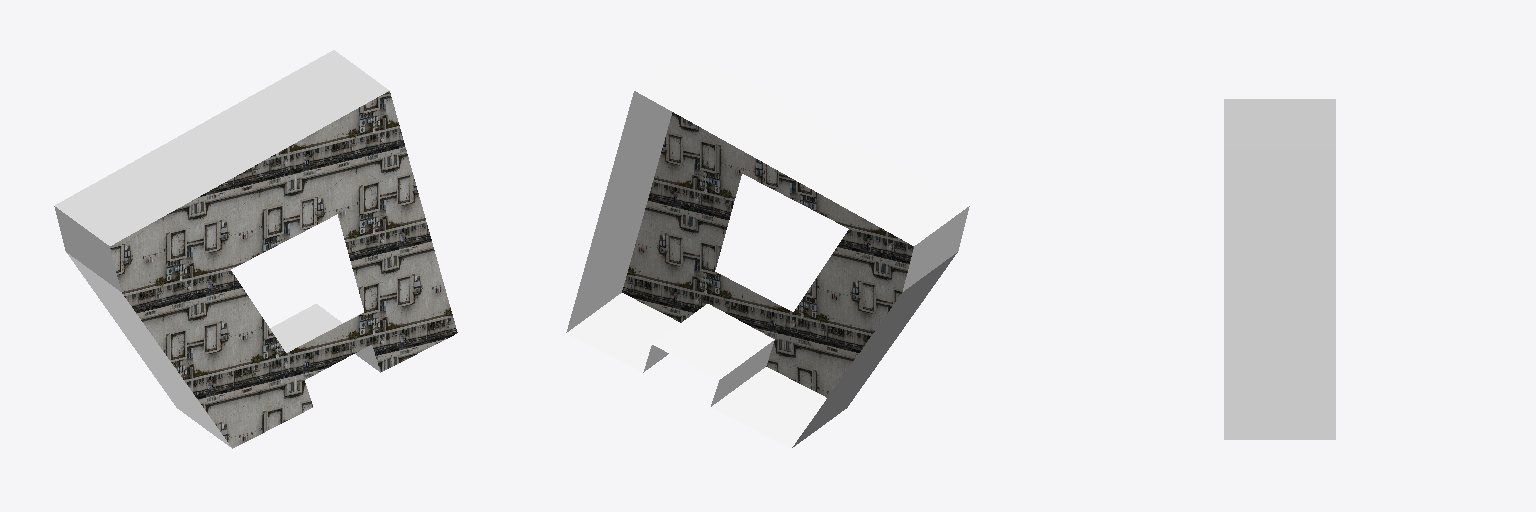
The picture shows the model from 3 angles: view 1: azimuth 30°, elevation 25°; view 2: azimuth 150°, elevation 25°; view 3: azimuth 270°, elevation 25°; orthographic projection.
Visible parts, largest first — view 1: Building; view 2: Building; view 3: Building.
Part boxes in pixels (x1,y1,x2,y2): Building: (54, 50, 457, 448); Building: (566, 50, 969, 448); Building: (1224, 99, 1335, 439).
Size of the model in its own units: 43.25 by 38.01 by 12.
Materials: 2 (1 with a texture image).